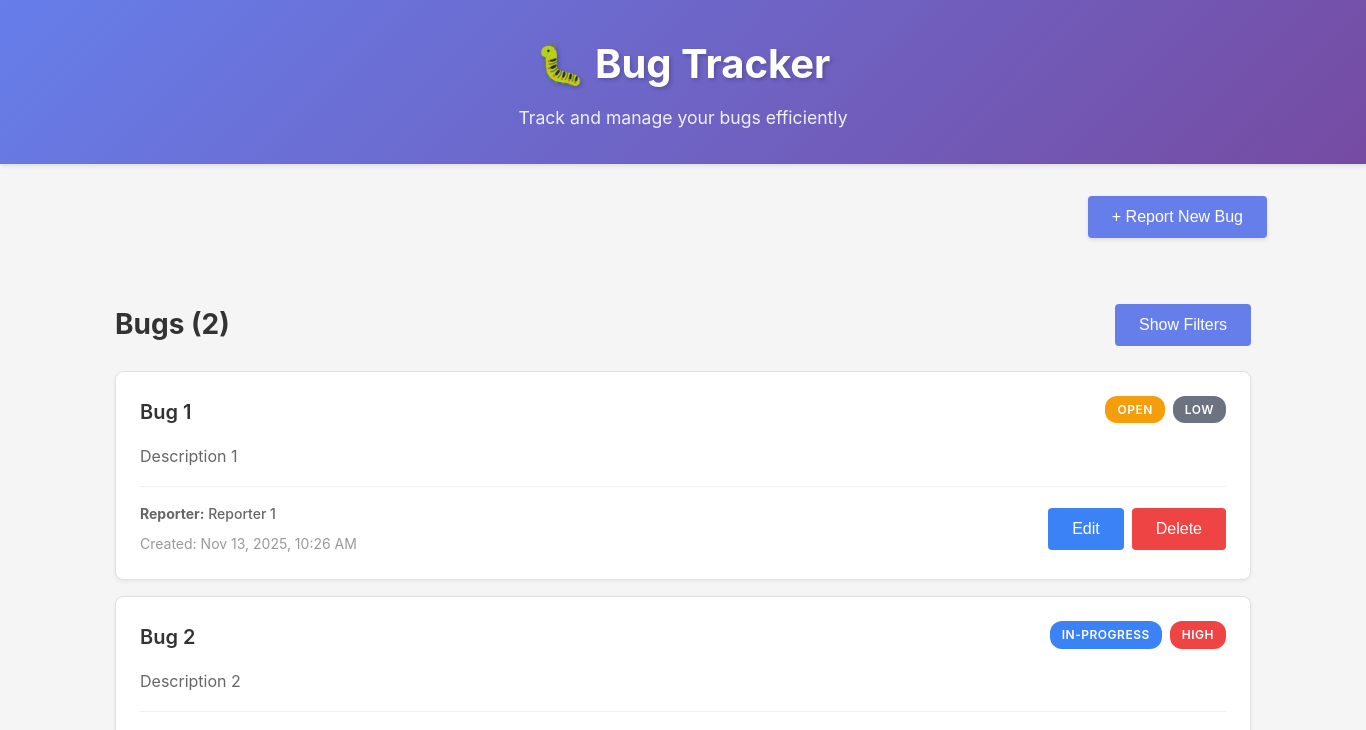
App Component › Form Display › should render BugForm when showForm is true
The width and height of the screenshot is (1366, 730).
Click the button "+ Report New Bug" at (1177, 217), box [1088, 196, 1267, 238]
(page scrolled)
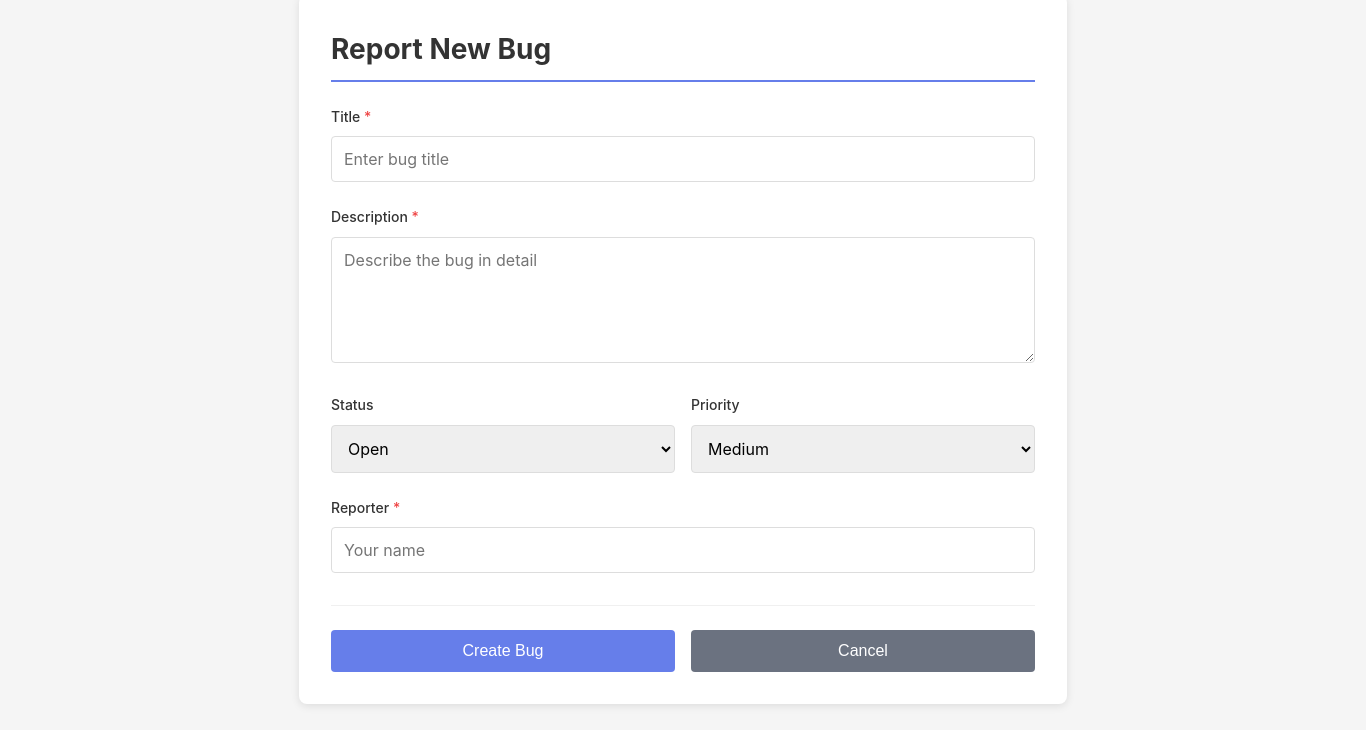
Now the field labelled "Title *" is shown, box [331, 136, 1035, 182]
Now the text box labelled "Description *" is shown, box [331, 237, 1035, 363]
Now the field labelled "Reporter *" is shown, box [331, 527, 1035, 573]
